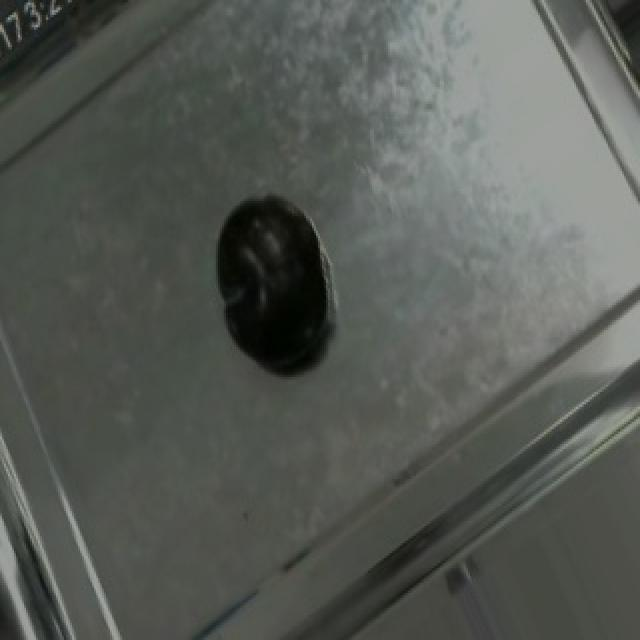Fruit: (198, 184, 338, 382)
